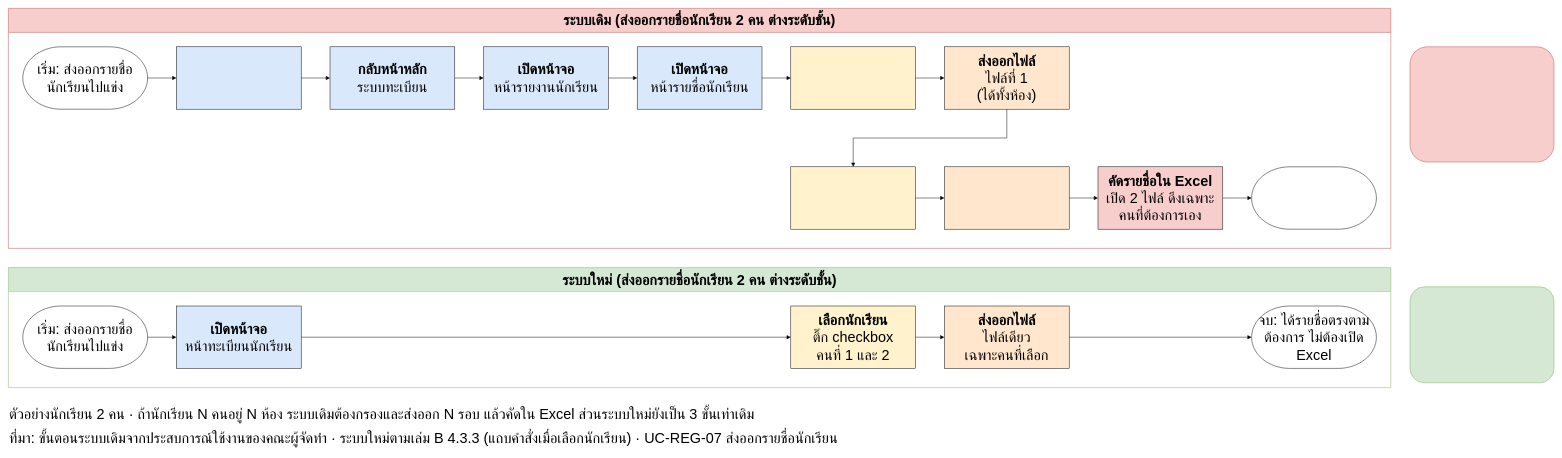
Some shapes in this 1562 by 458 pixel diagram are drawn without their labels. The centre of each missing label's shape, as x and y in pixels:
3 ขั้น เปิด 1 หน้าจอ ส่งออก 1 ไฟล์ ไม่ต้องใช้ Excel: point 1482,334
9 ขั้น เปิด 3 หน้าจอ ส่งออก 2 ไฟล์ ต้องคัดใน Excel: point 1482,104
จบ: ได้รายชื่อ (หลังคัดเอง): point 1313,197
ส่งออกไฟล์ ไฟล์ที่ 2 (ได้ทั้งห้อง): point 1006,197
เปิดหน้าจอ หน้าข้อมูลนักเรียน (ดูรายชื่อทั้งหมด): point 238,77
เลือกนักเรียน กรองตามห้องของคนที่ 1 (เลือกรายคนไม่ได้): point 853,77
เลือกนักเรียน ล้างตัวกรอง แล้ว กรองห้องของคนที่ 2: point 853,197
